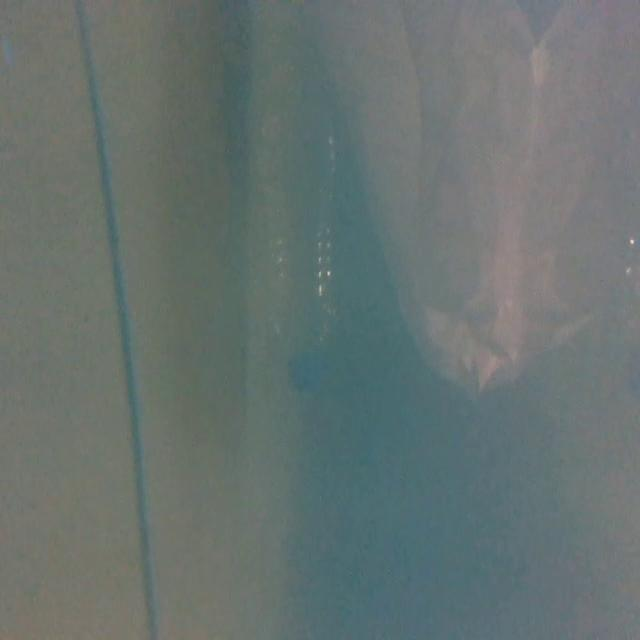plastic bags: (351, 0, 639, 394)
plastic bottle: (245, 107, 348, 401)
